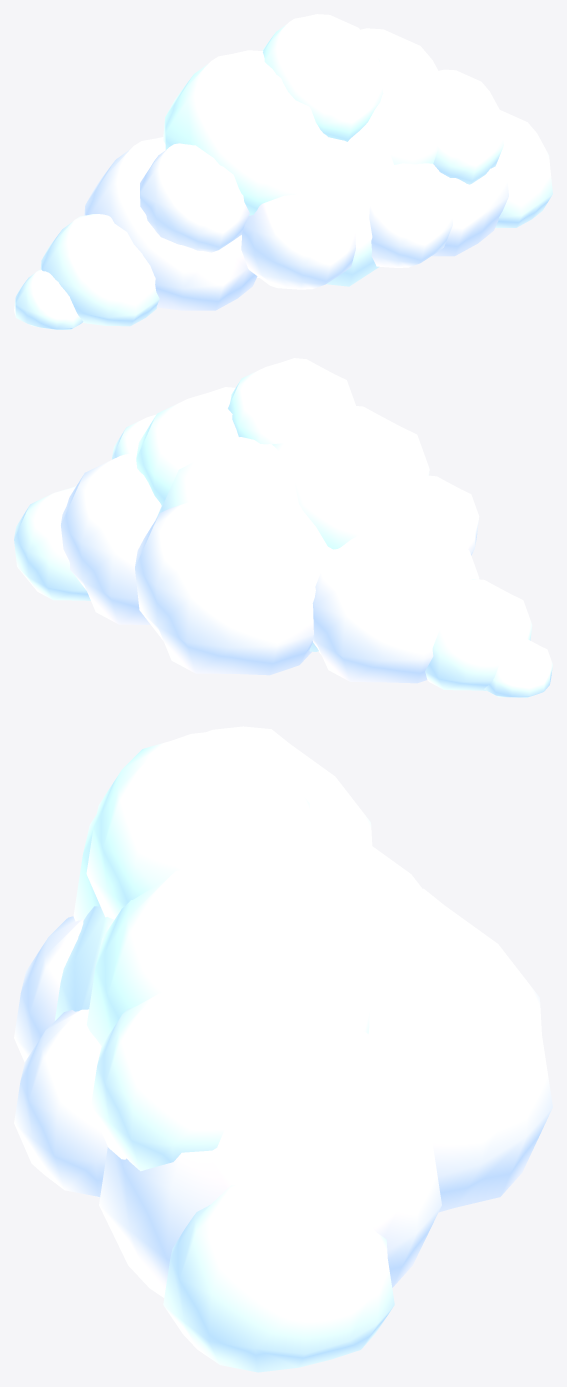
File: props__CandyCottonCloud.glb
3 renders of one model, top to bottom at view 1: azimuth 30°, elevation 25°; view 2: azimuth 150°, elevation 25°; view 3: azimuth 270°, elevation 25°, orthographic. The views are drawn at different scales.
Parts seen in each view (by area): view 1: CandyCottonCloud; view 2: CandyCottonCloud; view 3: CandyCottonCloud.
Part boxes in pixels (bbox=[...]): CandyCottonCloud: bbox=[14, 14, 552, 329]; CandyCottonCloud: bbox=[14, 358, 552, 697]; CandyCottonCloud: bbox=[14, 726, 552, 1372].
Size of the model in its own units: 12.28 by 5.7 by 6.32.
